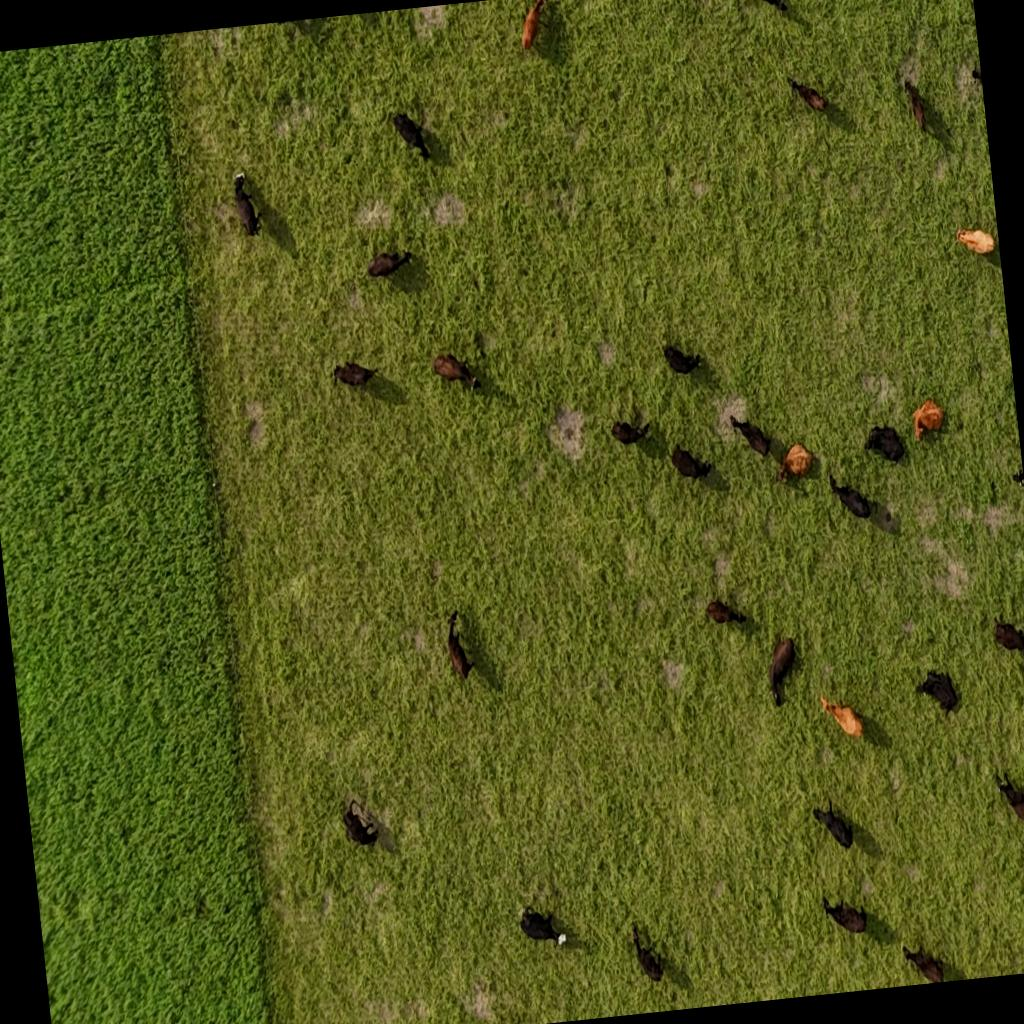cow: (512, 901, 567, 961), (440, 604, 478, 688), (338, 790, 386, 854), (764, 636, 802, 709), (232, 168, 266, 240), (812, 794, 854, 852), (432, 350, 482, 398), (914, 666, 960, 718), (822, 890, 868, 938), (828, 470, 870, 522), (630, 920, 664, 984), (390, 109, 430, 163), (820, 692, 863, 742), (860, 421, 906, 466), (730, 413, 772, 461), (901, 939, 944, 985), (517, 0, 555, 52), (994, 763, 1024, 828), (902, 72, 932, 137), (773, 442, 815, 486), (669, 441, 712, 482), (991, 614, 1024, 667), (788, 74, 827, 118), (910, 397, 946, 443), (332, 358, 382, 390), (365, 248, 415, 280), (662, 340, 702, 376), (704, 596, 746, 628), (956, 226, 996, 259), (610, 416, 650, 446), (748, 0, 788, 19), (1010, 467, 1024, 488)
